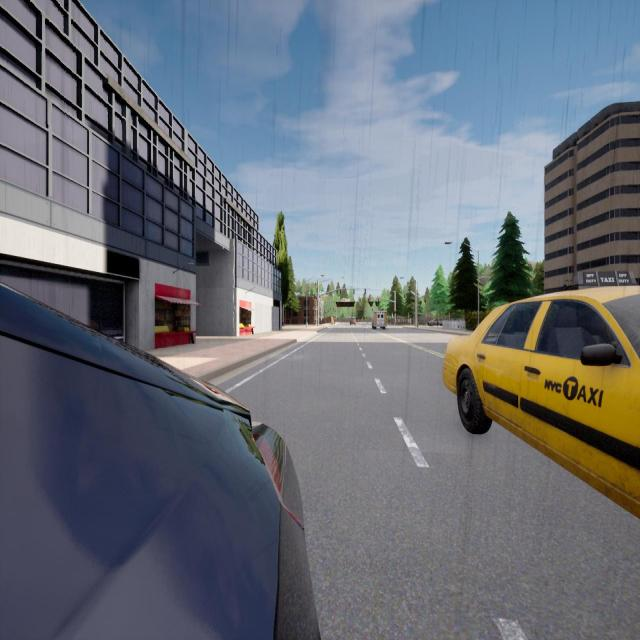Vehicle: (0, 287, 315, 640), (443, 286, 639, 517), (371, 310, 387, 330), (427, 318, 443, 326), (350, 316, 356, 326)
traffic_light: (365, 289, 366, 294), (340, 290, 341, 294), (395, 310, 396, 314), (368, 298, 369, 302), (404, 294, 405, 298), (354, 289, 354, 294), (360, 298, 360, 302), (378, 298, 378, 302)
